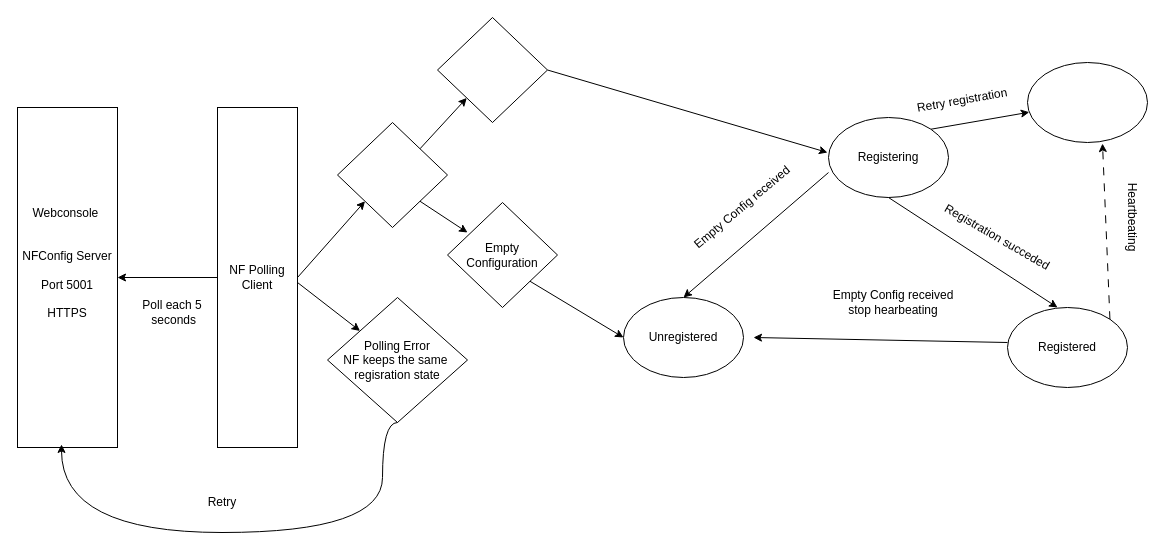
Some shapes in this 1170 by 550 pixel diagram are drawn without their labels. The box of each missing label's shape, as (x1, y1, x2, y2) in pixels:
Configuration changed: (436, 16, 548, 122)
NRF: (1026, 62, 1148, 142)
Polling Succeded: (336, 122, 448, 228)
